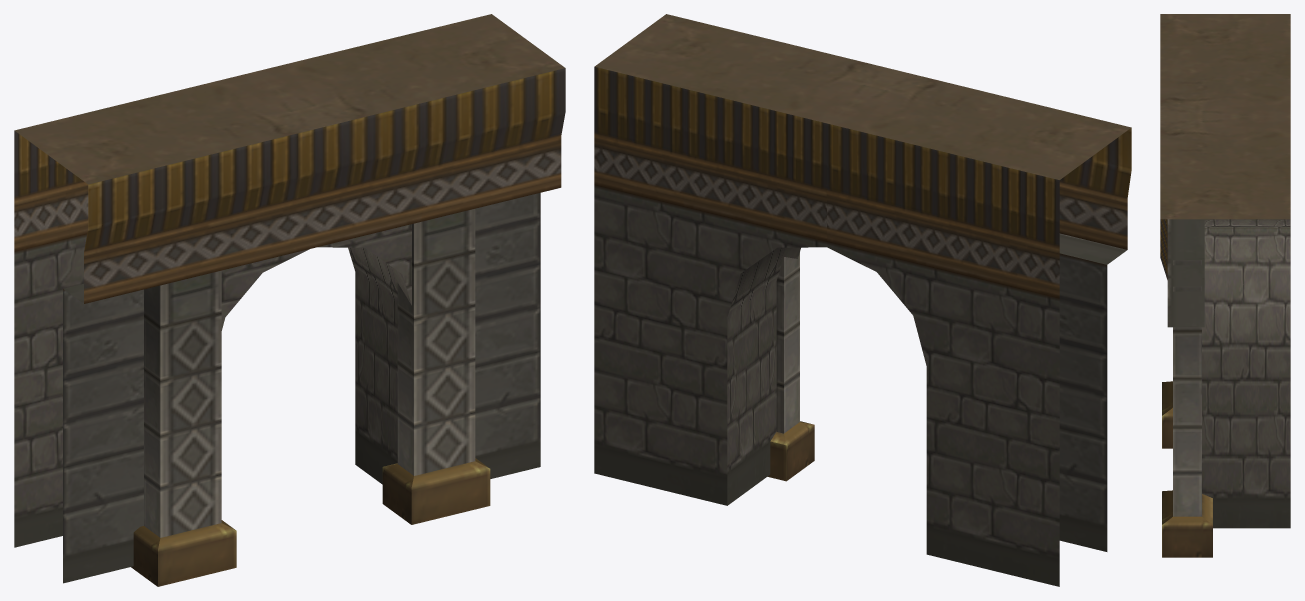
The model's file is Battle06_Wall_022.FBX.
The picture shows the model from 3 angles, left to right: view 1: azimuth 30°, elevation 25°; view 2: azimuth 150°, elevation 25°; view 3: azimuth 270°, elevation 25°; orthographic projection. The views are drawn at different scales.
Parts seen in each view (by area): view 1: Battle06_Wall_022; view 2: Battle06_Wall_022; view 3: Battle06_Wall_022.
Boxes of the visible parts, x1,y1,x2,y2 form: Battle06_Wall_022: [14, 14, 565, 586]; Battle06_Wall_022: [594, 14, 1131, 586]; Battle06_Wall_022: [1160, 14, 1290, 557].
Bounding box in the file's own units: 11.09 × 9.33 × 2.97.
